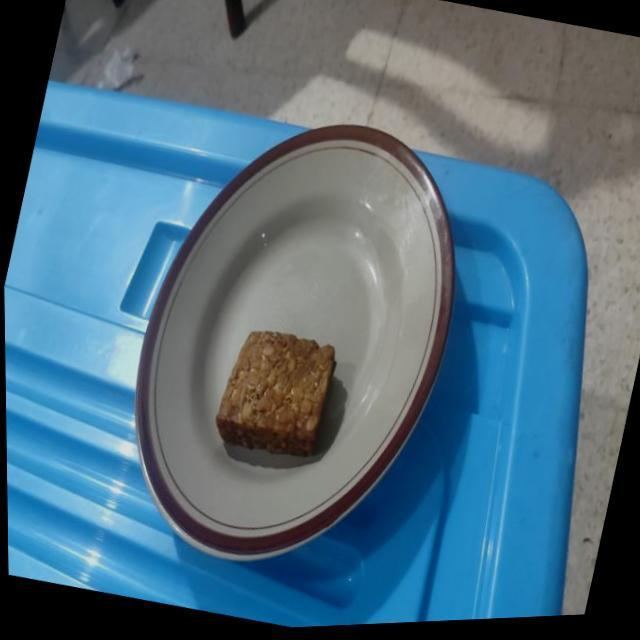tempe_goreng: (216, 331, 334, 454)
